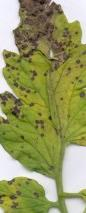Tomato Septoria leaf spot: (0, 0, 86, 175), (0, 166, 54, 213)
